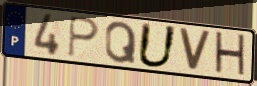4: (32, 12, 62, 57)
H: (213, 30, 248, 80)
P: (67, 15, 101, 59)
Q: (103, 20, 138, 66)
U: (135, 21, 180, 70)
V: (177, 26, 213, 74)
